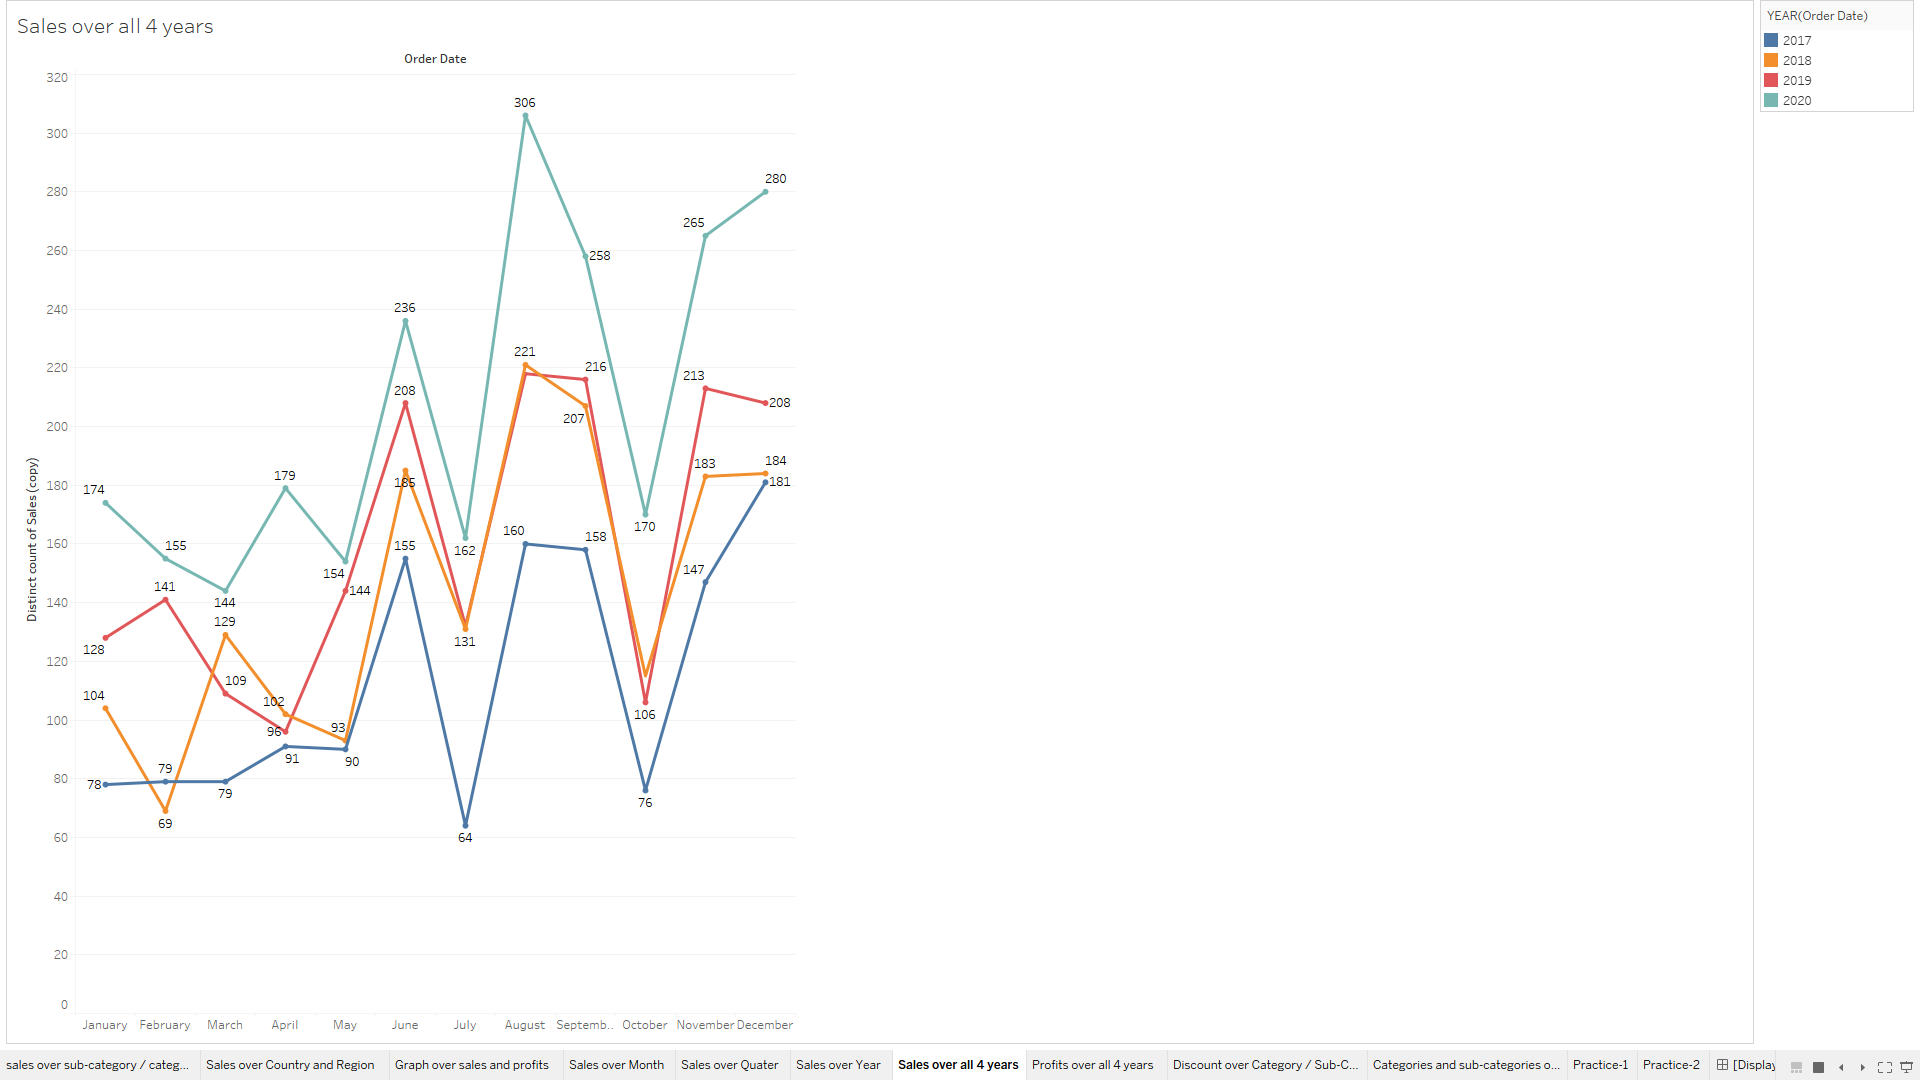

The page's visual inventory and layout, read from the dashboard file:
{"tool":"tableau","page":{"name":"[Graph showing sale's data of all 4 years]","canvas":[1000,1000],"units":"permille","ordinal":4},"visuals":[{"type":"title","box":[5,8.8,990,46.5]},{"type":"worksheet","title":"Sales over all 4 years","mark":"Automatic","rows":["Sales (copy)_855965427656978433"],"cols":["Order Date"],"box":[5,55.3,990,935.8]}]}

Visuals, with their boxes on the dashboard's canvas, which has no fixed pixel size, in thousandths of its width and height (x1, y1, x2, y2). These are canvas units, not pixel positions in the 1920x1080 screenshot, which may show the page scaled, cropped or inside an application window:
title: region(5, 9, 995, 55)
"Sales over all 4 years" worksheet: region(5, 55, 995, 991)
